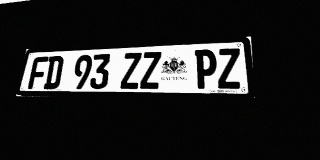3: (89, 54, 111, 89)
9: (72, 55, 93, 89)
D: (43, 56, 64, 89)
F: (28, 56, 49, 89)
P: (195, 49, 217, 89)
Z: (217, 48, 242, 89), (120, 52, 142, 89), (140, 51, 161, 89)
